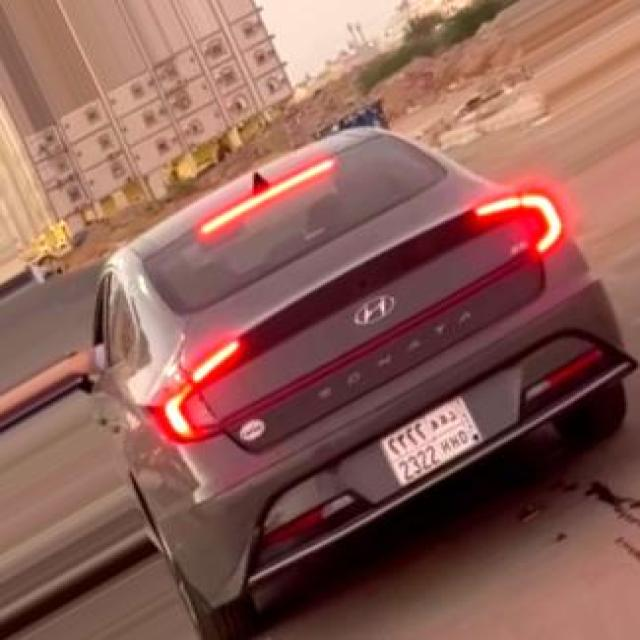Car-plate: (373, 387, 500, 504)
